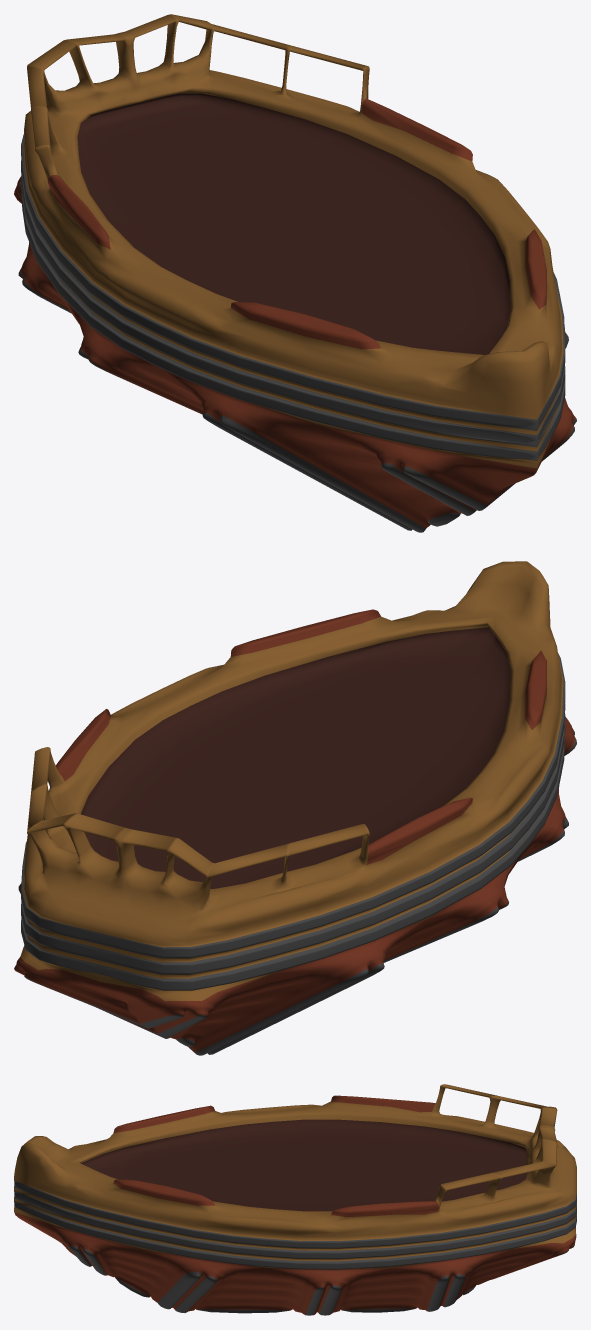
Rendered from EnemyShip2.fbx.
3 renders of one model, top to bottom at view 1: azimuth 30°, elevation 25°; view 2: azimuth 150°, elevation 25°; view 3: azimuth 270°, elevation 25°, orthographic. The views are drawn at different scales.
Parts seen in each view (by area): view 1: Plane; view 2: Plane; view 3: Plane.
Part boxes in pixels (x1,y1,x2,y2): Plane: (14,14,576,532); Plane: (14,561,576,1055); Plane: (14,1084,576,1315).
Bounding box in the file's own units: 534 × 363 × 963.
